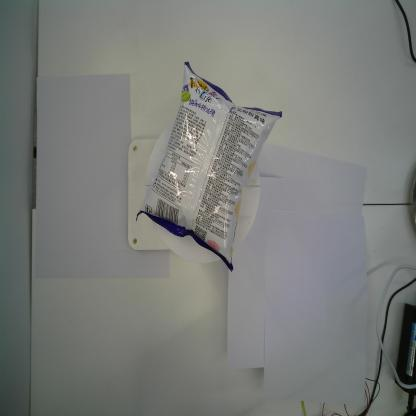Puffed Food: (136, 61, 283, 275)
